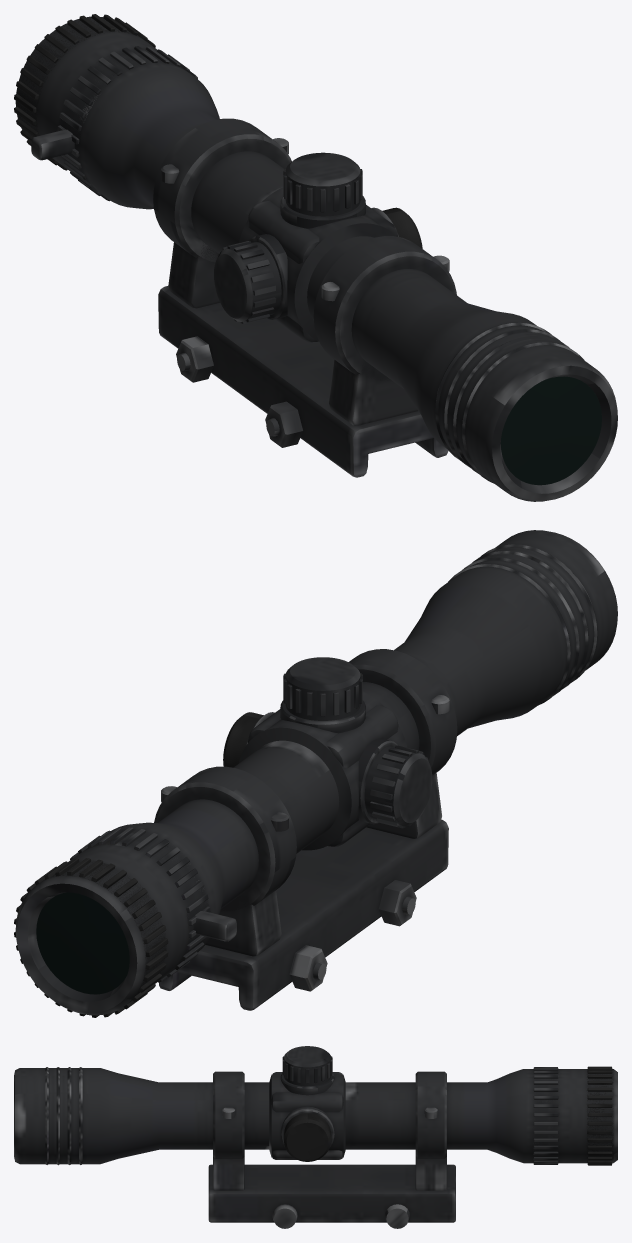
Rendered from scope_6x.glb.
3 views of the same model, one above another, from view 1: azimuth 30°, elevation 25°; view 2: azimuth 150°, elevation 25°; view 3: azimuth 270°, elevation 25° (orthographic). The views are drawn at different scales.
Parts seen in each view (by area): view 1: body, lens_front; view 2: body, lens; view 3: body.
Boxes of the visible parts, box(x1,y1,x2,y2) form: body: box(14, 14, 617, 501); lens_front: box(500, 376, 601, 485); body: box(14, 530, 617, 1017); lens: box(36, 892, 129, 994); body: box(14, 1046, 617, 1228).
Size of the model in its own units: 0.059 by 0.0771 by 0.2685.
2 materials, 1 textured.
